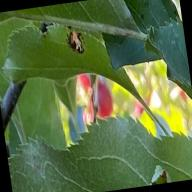Apples: (92, 81, 114, 118), (76, 72, 92, 99)
